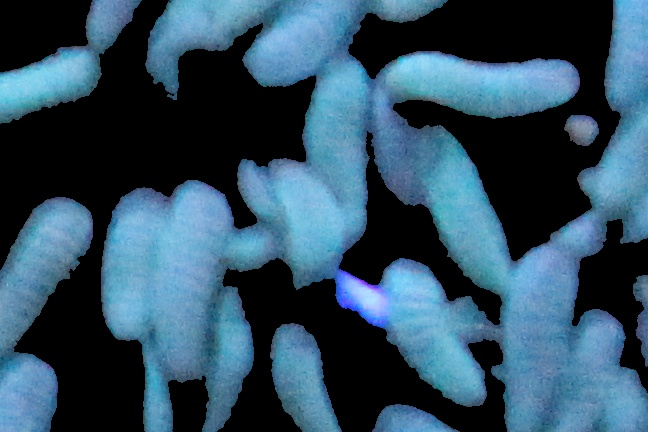larvae: (374, 239, 491, 412), (381, 250, 495, 409), (1, 189, 98, 362), (157, 172, 233, 377), (382, 41, 581, 115), (497, 237, 571, 426), (426, 121, 510, 282), (98, 171, 168, 347), (299, 58, 372, 218), (240, 1, 366, 84), (268, 156, 345, 285), (1, 38, 101, 127), (566, 290, 624, 432), (267, 318, 339, 432), (602, 1, 648, 112), (76, 1, 142, 49), (226, 219, 284, 273), (236, 146, 274, 225)
